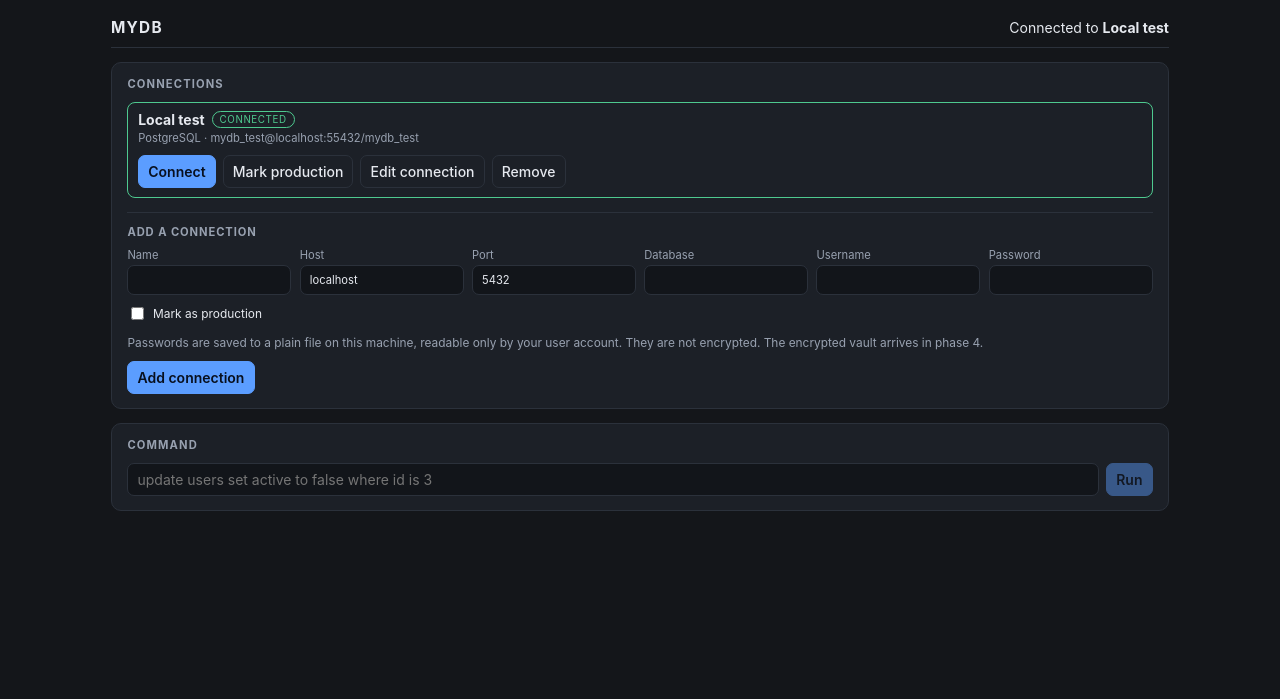
the confirmation loop › edit returns to a fresh preview rather than executing
Expected: the text "Connected to Local test" is shown, left=1009, top=18, right=1169, bottom=36
In the field named "Command": (613, 479) left=127, top=463, right=1099, bottom=496, type "delete users where active is false"
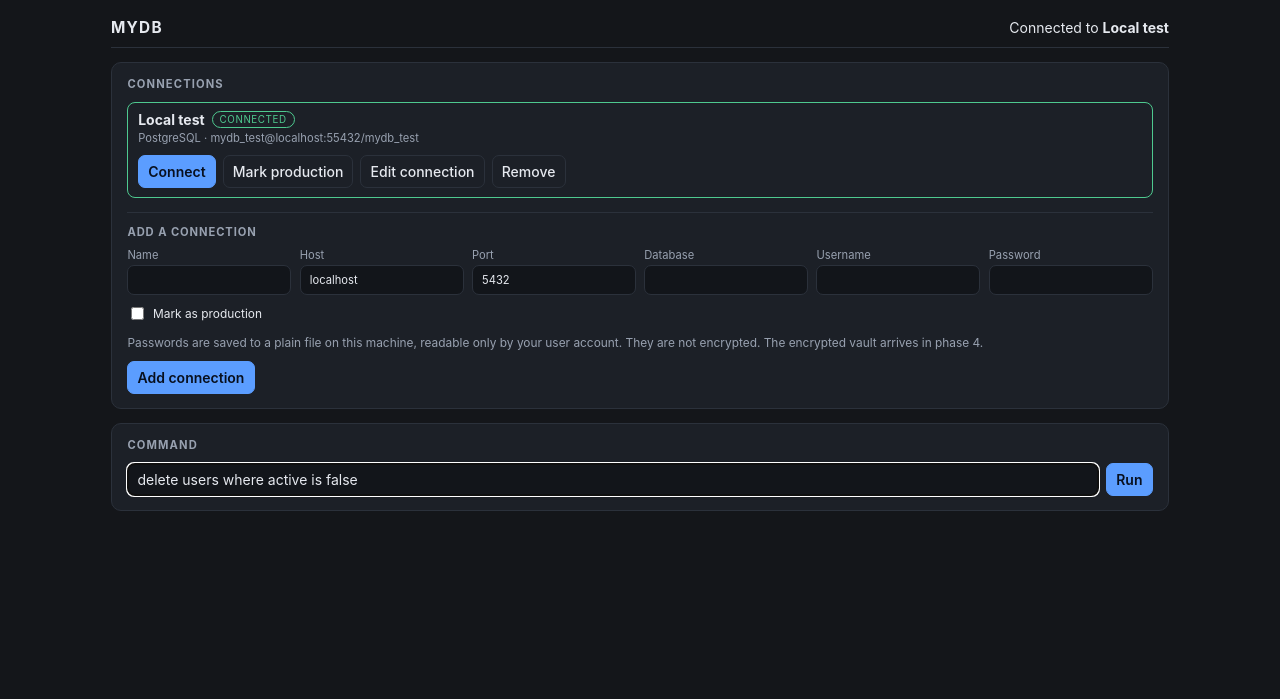
Click the button "Run": (1129, 479) left=1106, top=463, right=1153, bottom=496
(page scrolled)
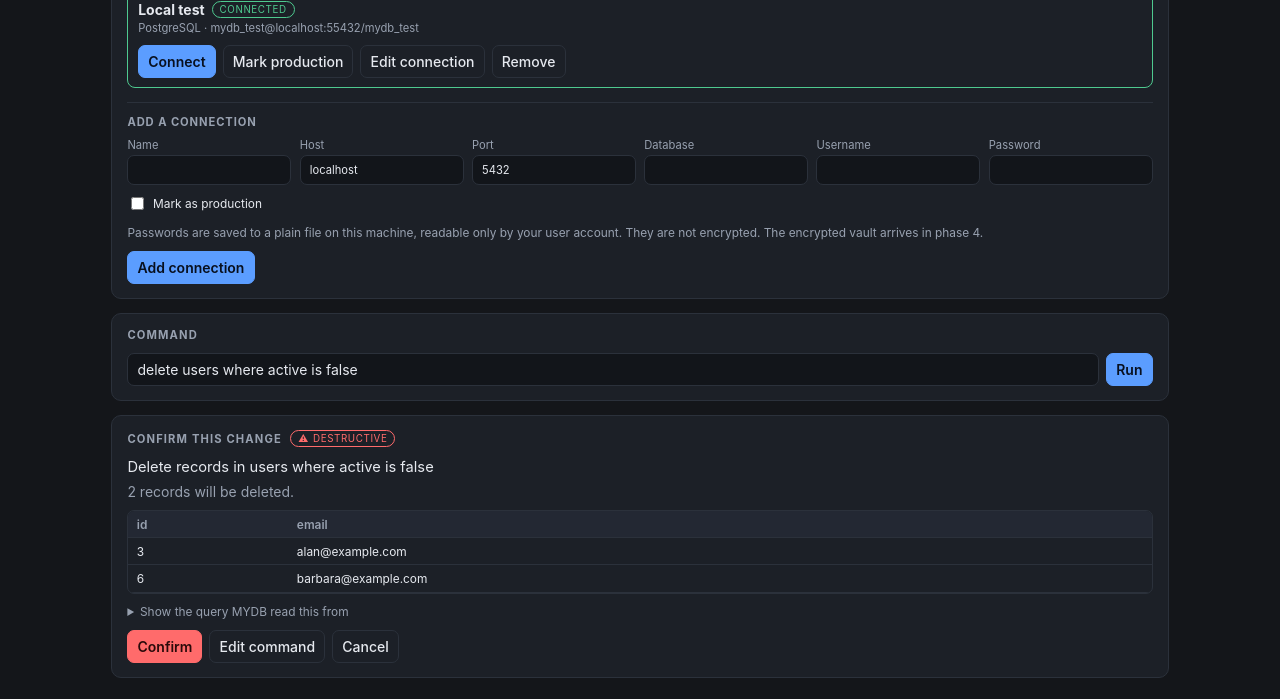
Click the button "Edit command": (267, 646) left=210, top=630, right=325, bottom=663
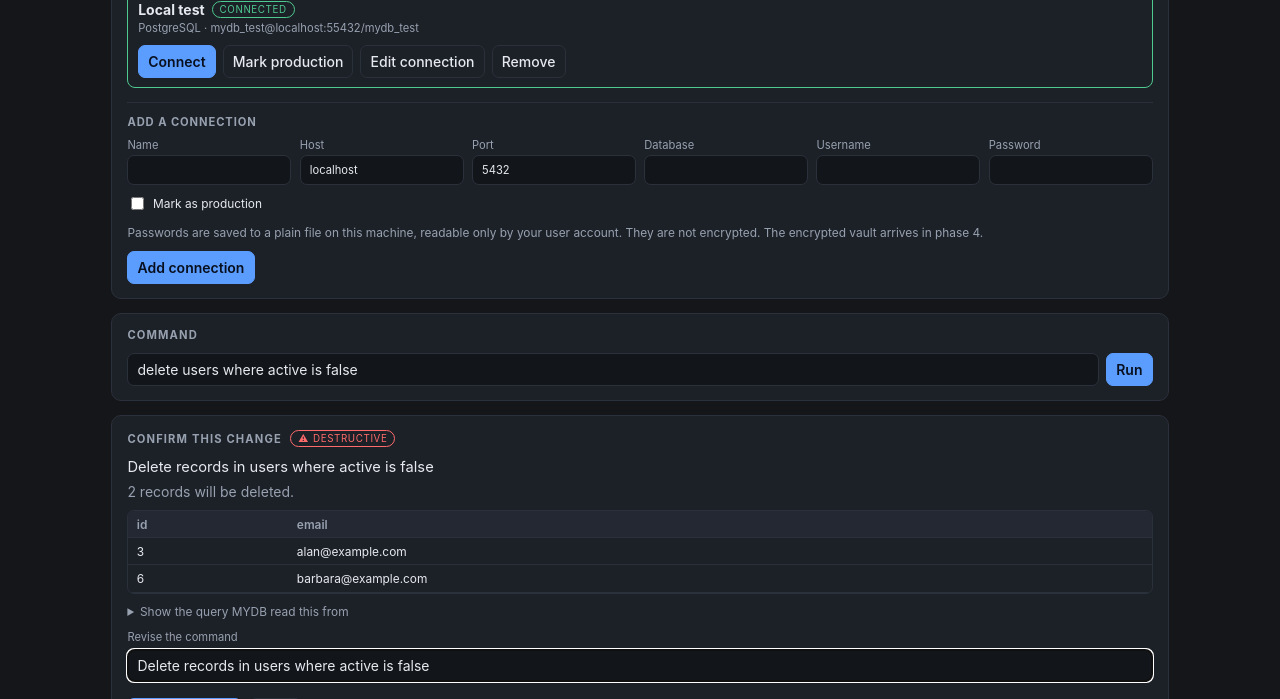
Replace the text in the field labelled "Revise the command" with "delete users where id is 3": (640, 666) left=127, top=649, right=1153, bottom=682
(page scrolled)
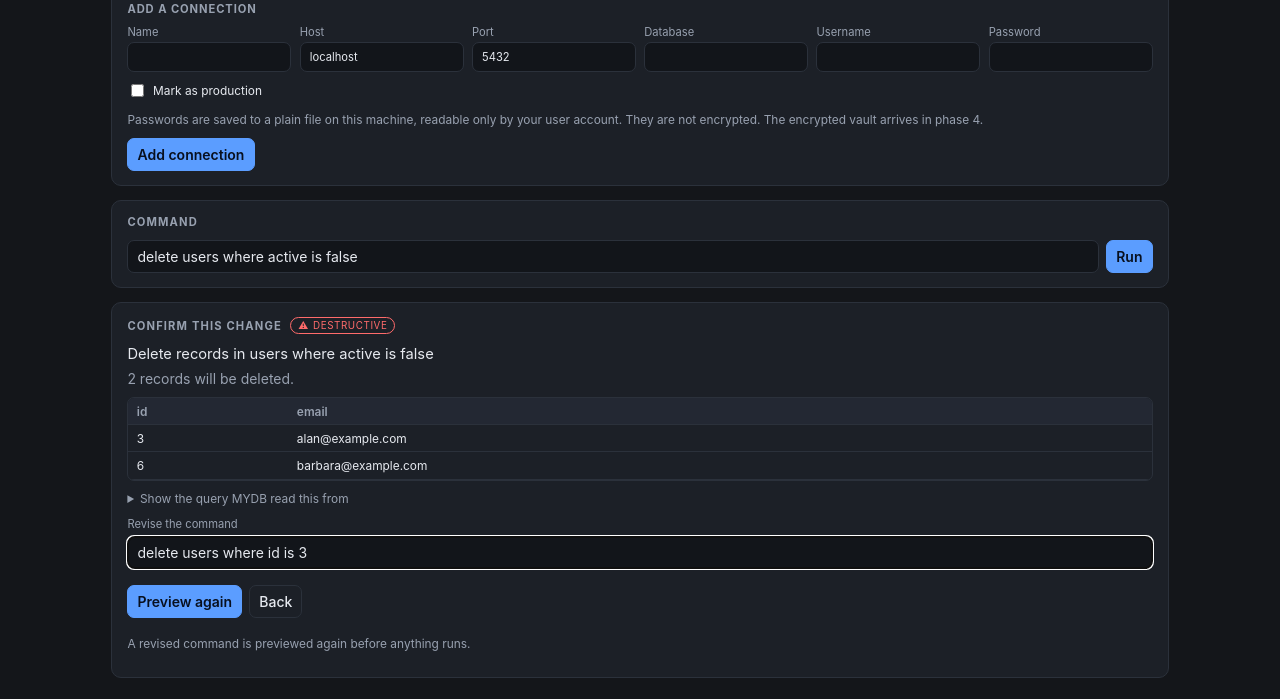
Click the button "Preview again": (185, 602) left=127, top=585, right=242, bottom=618
(page scrolled)
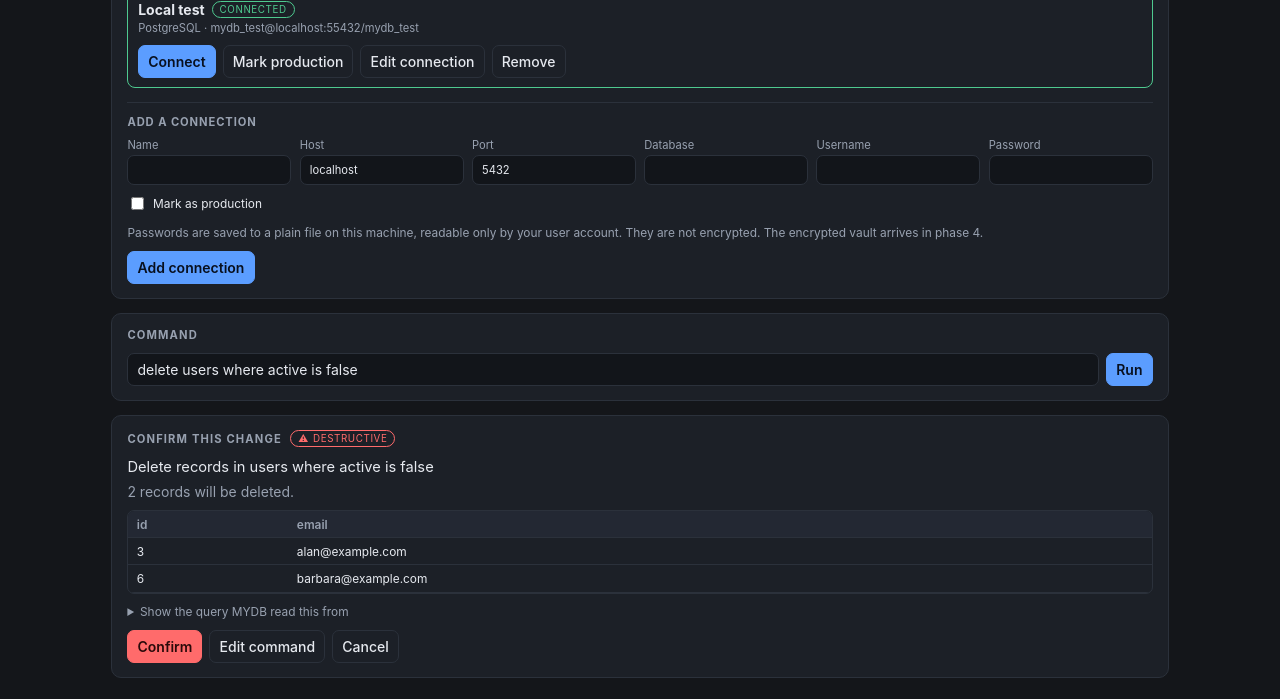
Expected: the button "Confirm" is shown, left=127, top=630, right=202, bottom=663
